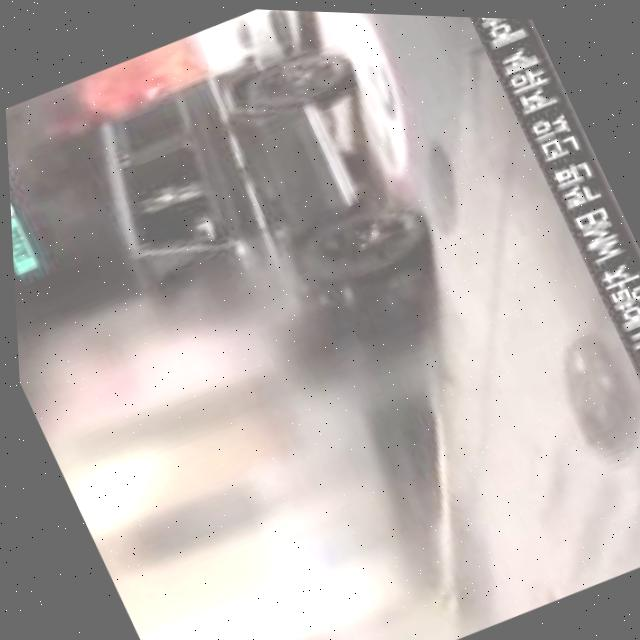Fire: (68, 28, 217, 129)
